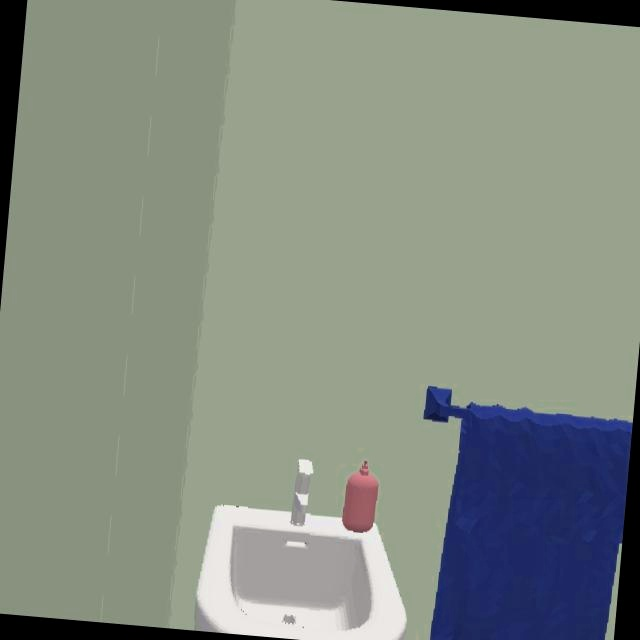washbasin: (194, 506, 408, 640)
